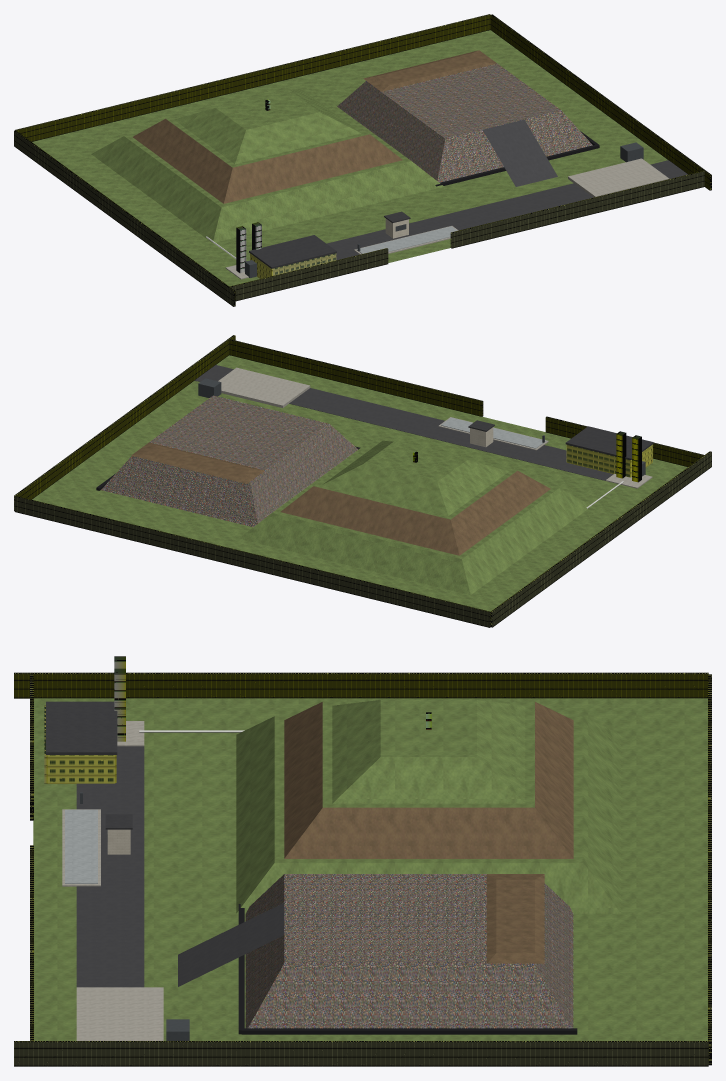
File: landfill.glb
3 renders of one model, top to bottom at view 1: azimuth 30°, elevation 25°; view 2: azimuth 150°, elevation 25°; view 3: azimuth 270°, elevation 25°, orthographic. The views are drawn at different scales.
Visible parts, largest first — view 1: landfill; view 2: landfill; view 3: landfill.
Boxes of the visible parts, x1,y1,x2,y2 form: landfill: [14, 14, 711, 306]; landfill: [14, 335, 711, 627]; landfill: [14, 656, 711, 1066].
Size of the model in its own units: 90.68 by 12.7 by 72.34.
Materials: 19 (19 with a texture image).
